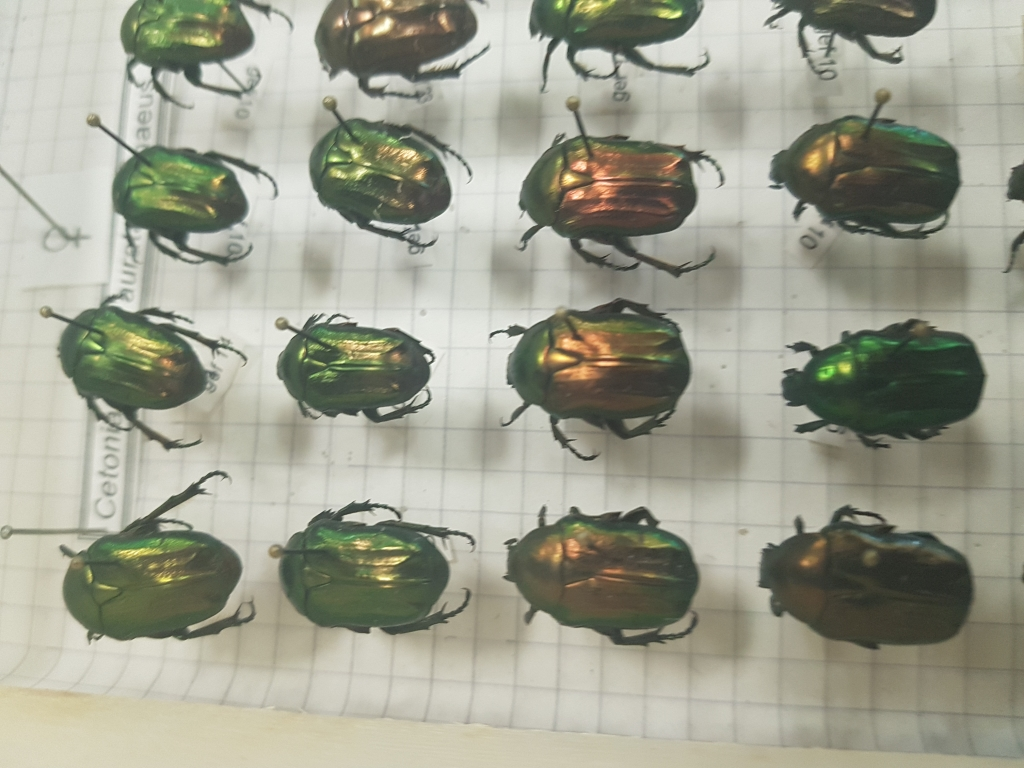Cetonia_aurata: (492, 281, 693, 463)
